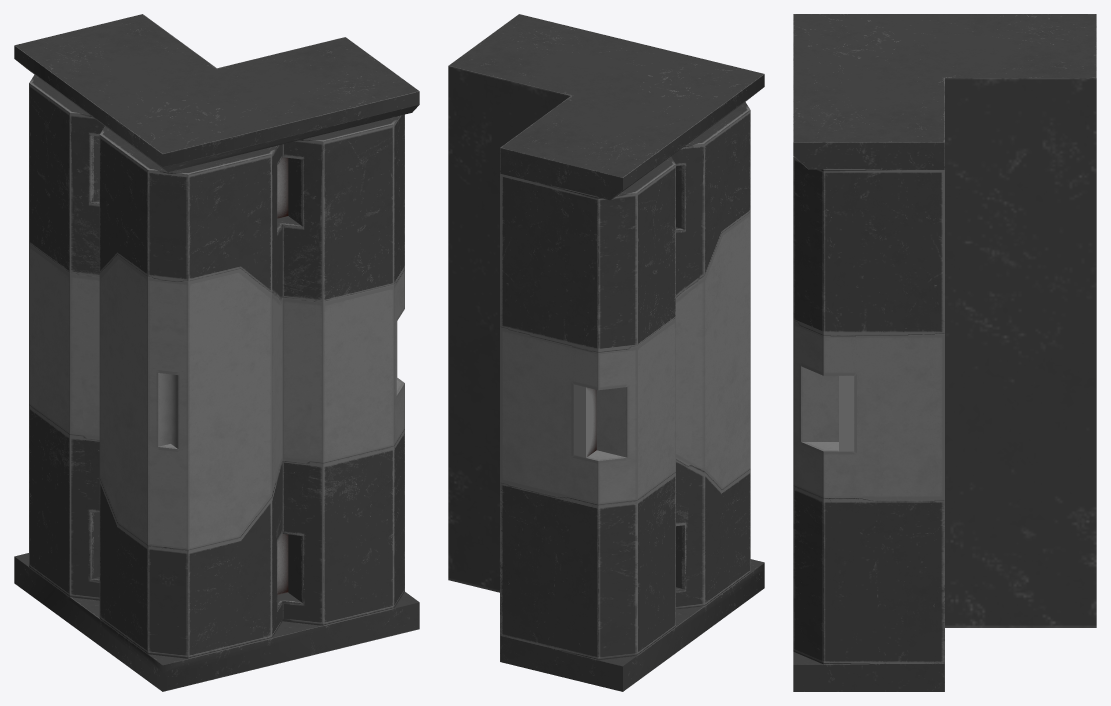
File: tile_wall11_ConerOut.FBX
3 views of the same model, side by side, from view 1: azimuth 30°, elevation 25°; view 2: azimuth 150°, elevation 25°; view 3: azimuth 270°, elevation 25° (orthographic). The views are drawn at different scales.
Parts seen in each view (by area): view 1: tile_wall11_ConerOut; view 2: tile_wall11_ConerOut; view 3: tile_wall11_ConerOut.
Part boxes in pixels (x1,y1,x2,y2): tile_wall11_ConerOut: (14,14,419,691); tile_wall11_ConerOut: (448,14,764,691); tile_wall11_ConerOut: (793,14,1096,691).
Size of the model in its own units: 100 by 200 by 100.
1 material, 1 textured.
